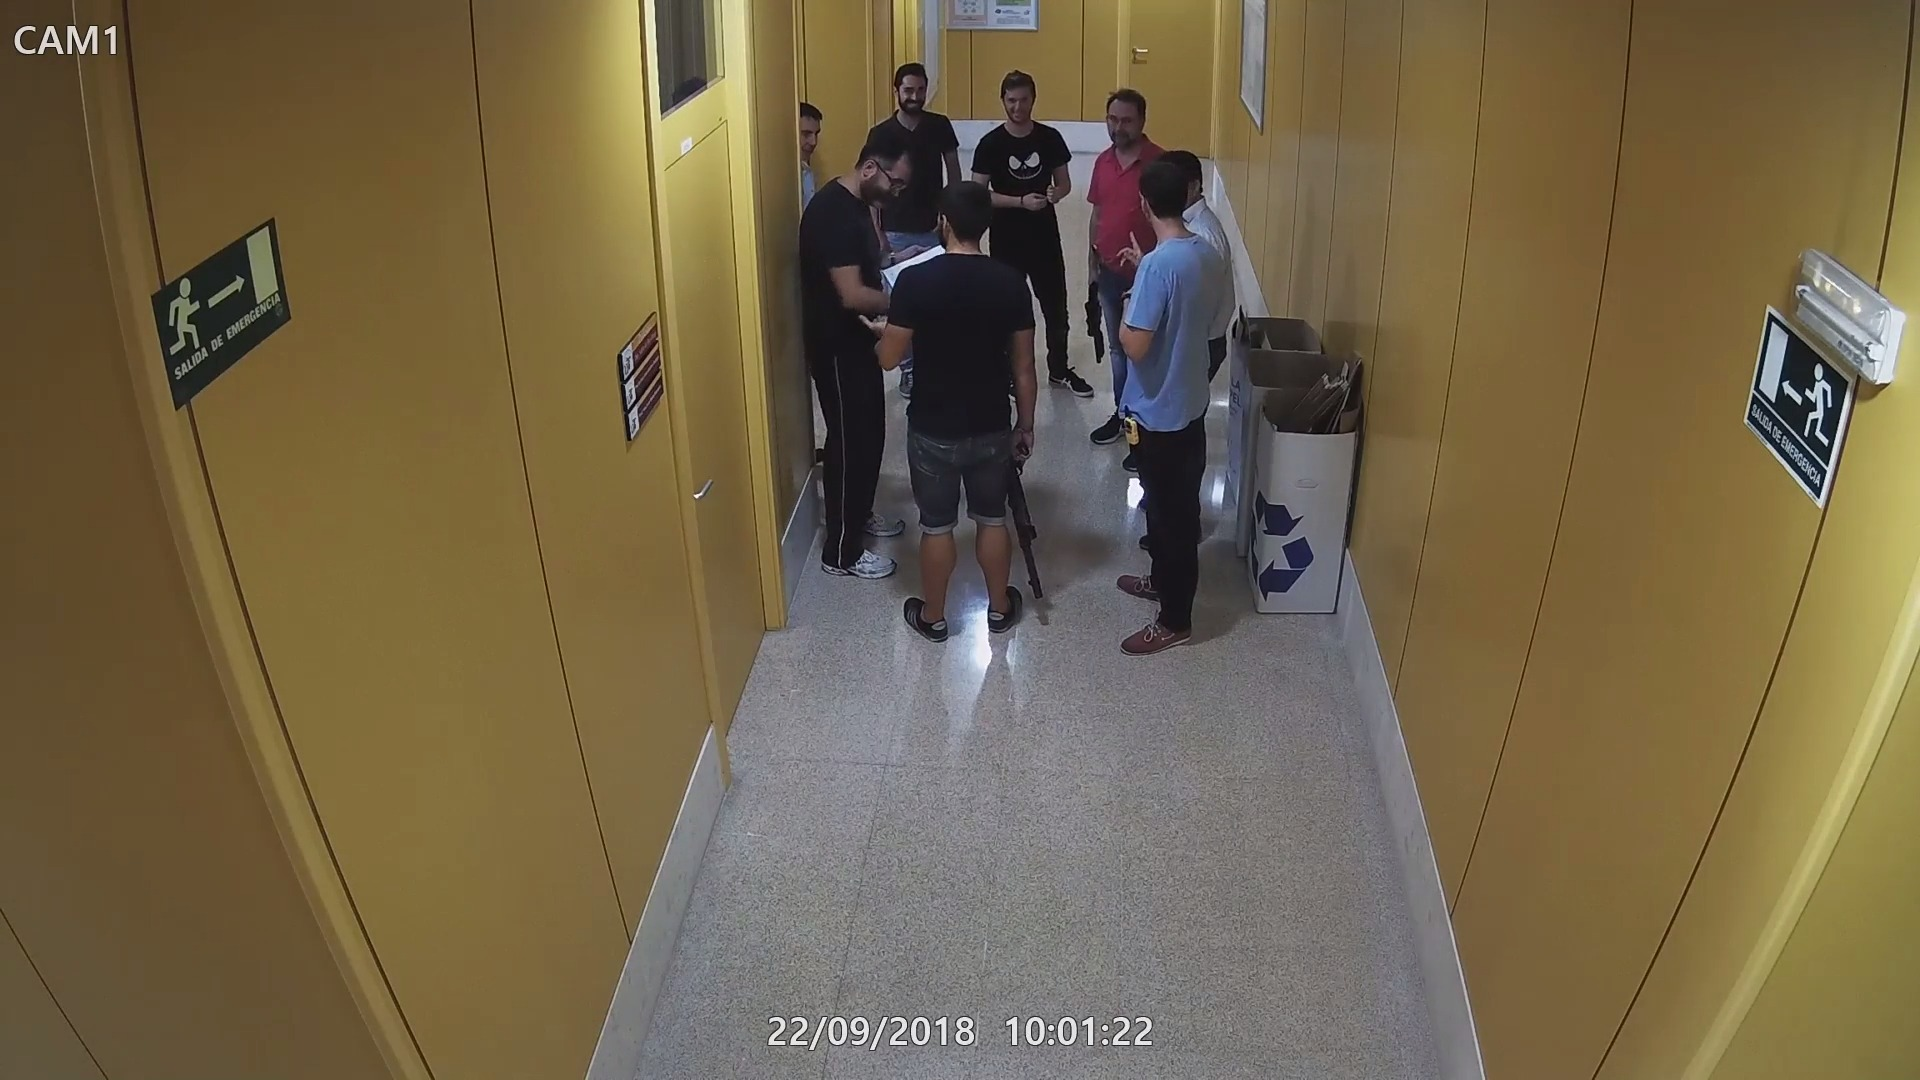Handgun: (1085, 243, 1112, 284)
Short_rifle: (1004, 429, 1044, 604), (1083, 260, 1112, 360)
